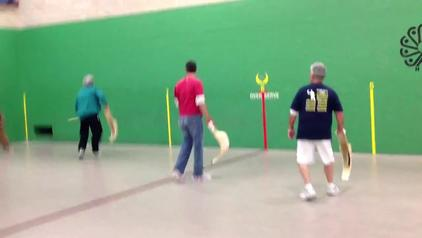walk: (287, 64, 344, 212), (167, 49, 212, 184), (76, 75, 111, 158)
